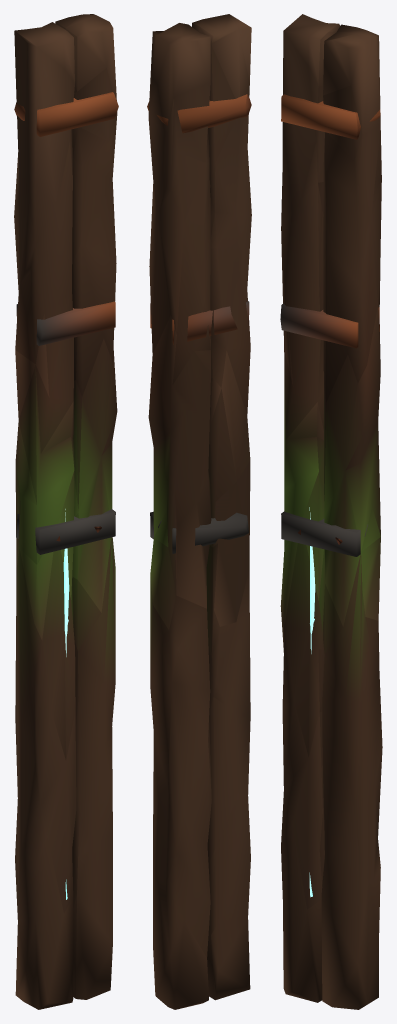
The model's file is mire_barrel_stave_c_lod2.glb.
The picture shows the model from 3 angles, left to right: view 1: azimuth 30°, elevation 25°; view 2: azimuth 210°, elevation 25°; view 3: azimuth 330°, elevation 25°; orthographic projection.
Parts seen in each view (by area): view 1: mire_barrel_stave_c.001; view 2: mire_barrel_stave_c.001; view 3: mire_barrel_stave_c.001.
Boxes of the visible parts, bbox=[...] form: mire_barrel_stave_c.001: bbox=[14, 14, 118, 1009]; mire_barrel_stave_c.001: bbox=[147, 14, 251, 1009]; mire_barrel_stave_c.001: bbox=[280, 14, 382, 1009].
Bounding box in the file's own units: 6.76 × 74.18 × 3.83.
